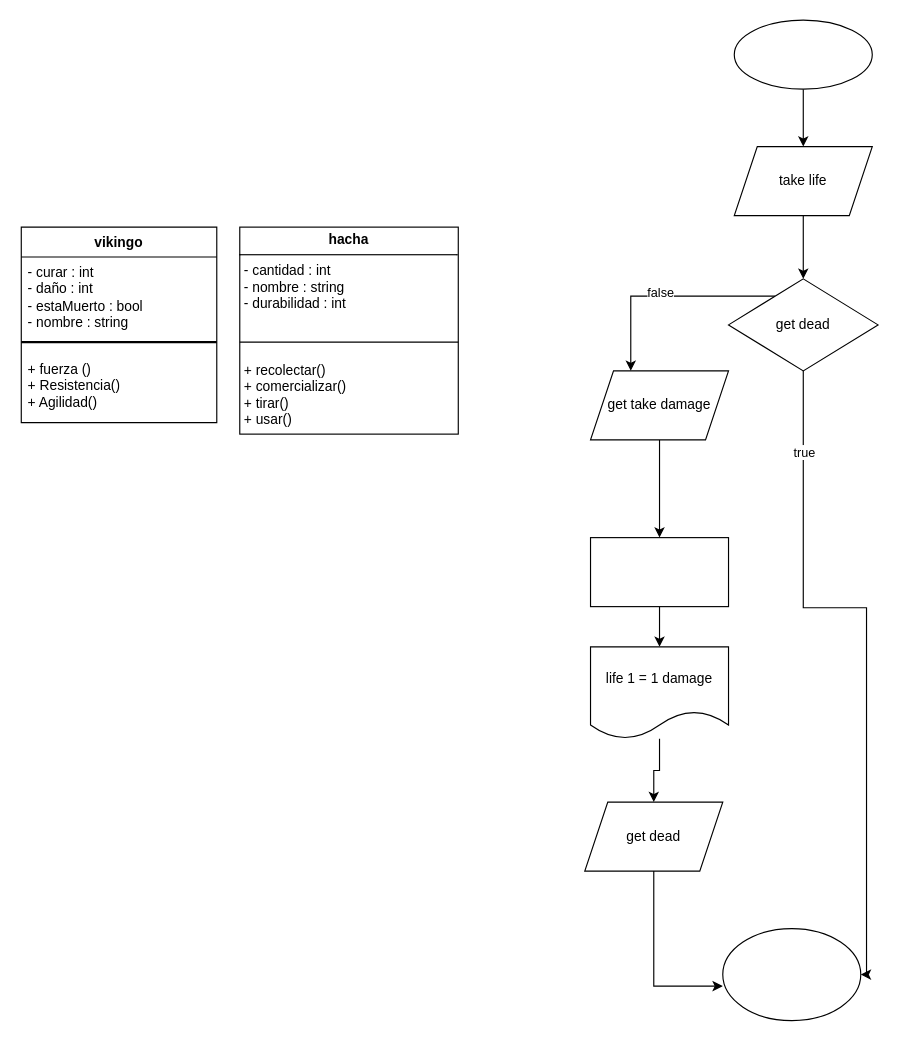
This 898x1041 diagram has some shape labels left out. The shapes that lost their labels are listed below. From the top down, each one's centre as x and y in pixels, then its label:
At (802,54): "ax damage".
At (659,571): "life = life damage".
At (791,974): "end".
